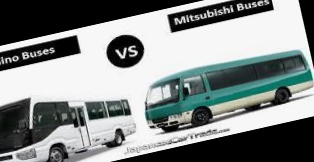bus: (138, 43, 314, 136), (0, 77, 141, 162)
